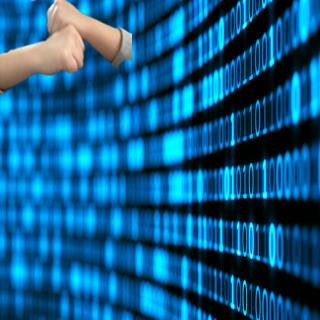CAREFUL: (11, 0, 122, 77)
